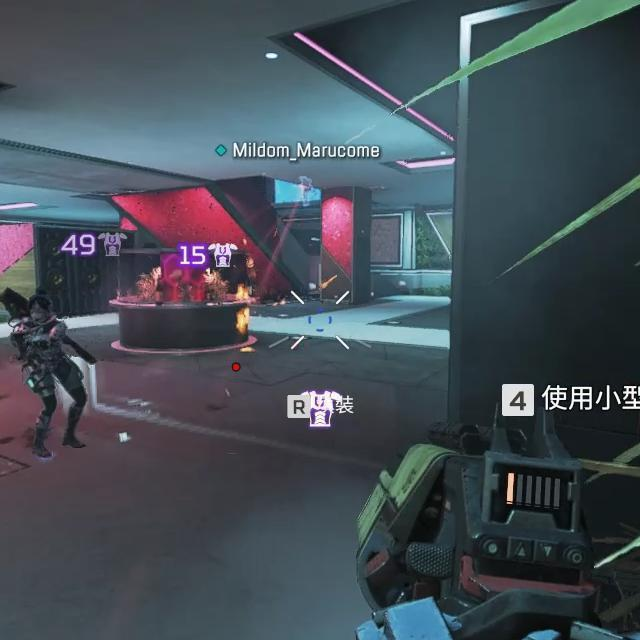avatar: (9, 292, 90, 462)
